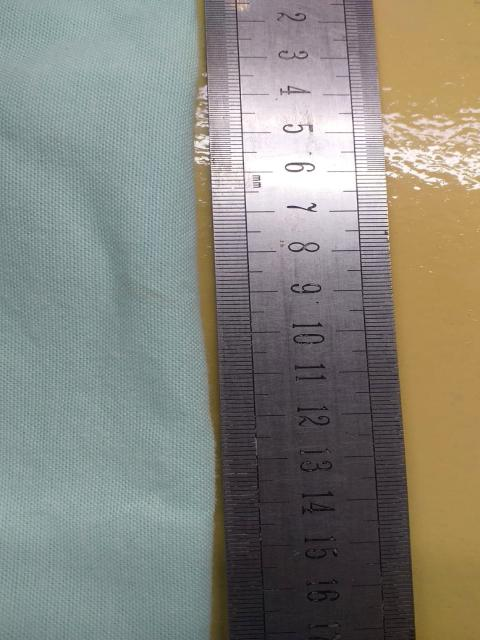Dirty_mark: (120, 270, 185, 312)
